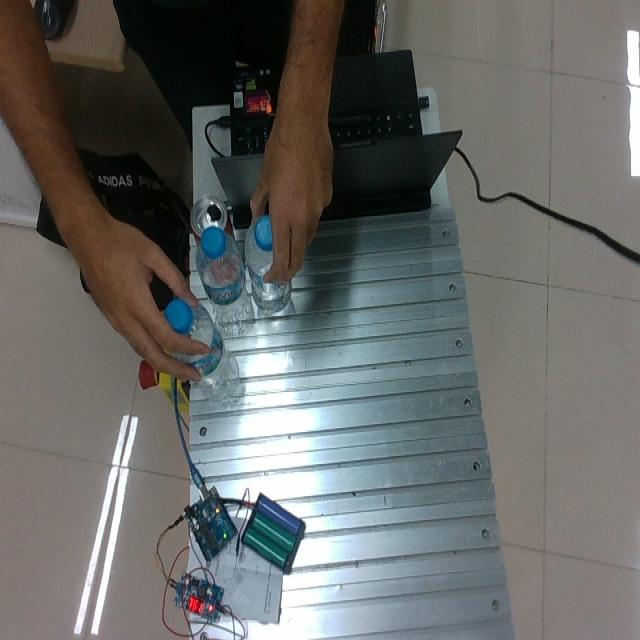coca: (189, 194, 229, 238)
lavie: (193, 213, 252, 335), (168, 296, 237, 400), (244, 210, 291, 314)
